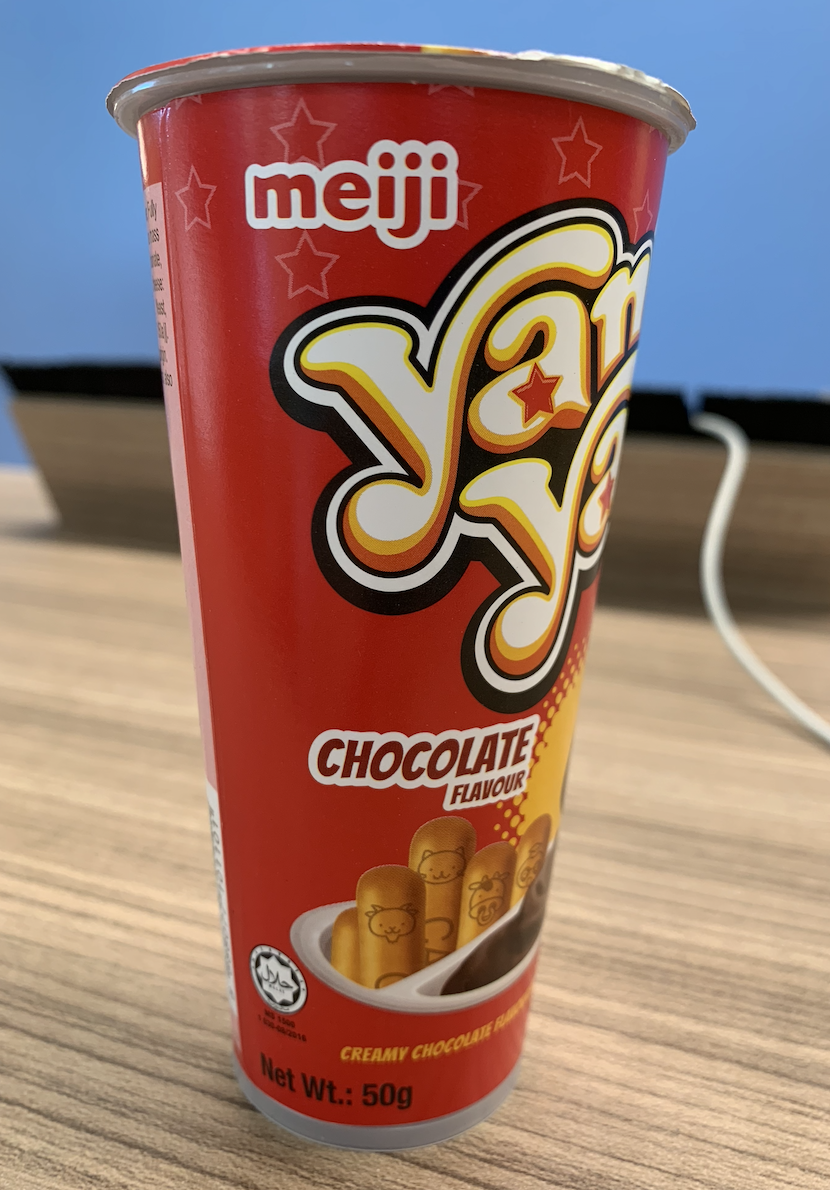cookies_1g-99g: (219, 104, 536, 1119)
